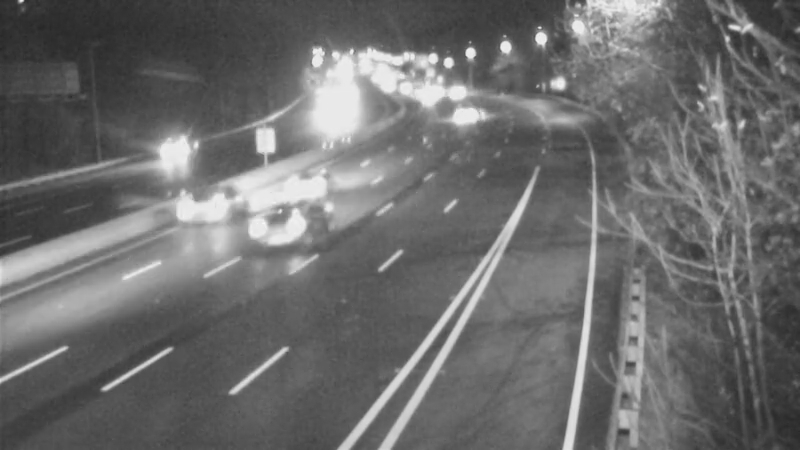vehicle: (260, 137, 340, 217), (238, 190, 318, 270), (160, 166, 240, 246), (137, 120, 217, 200), (429, 71, 479, 121), (403, 71, 453, 121), (436, 90, 486, 140)
